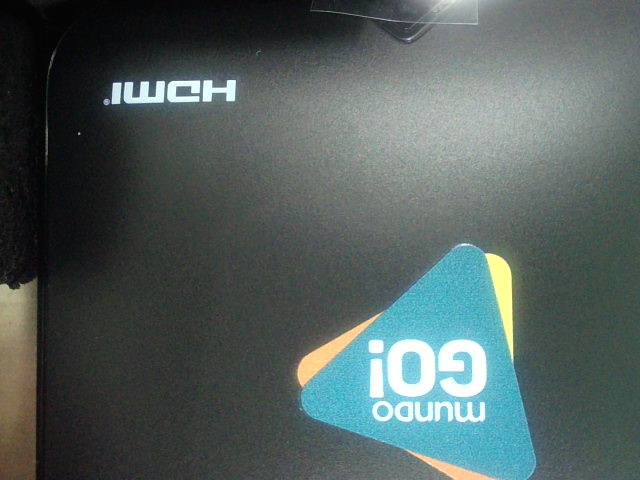AP_IPGMundoGO: (257, 235, 578, 479)
